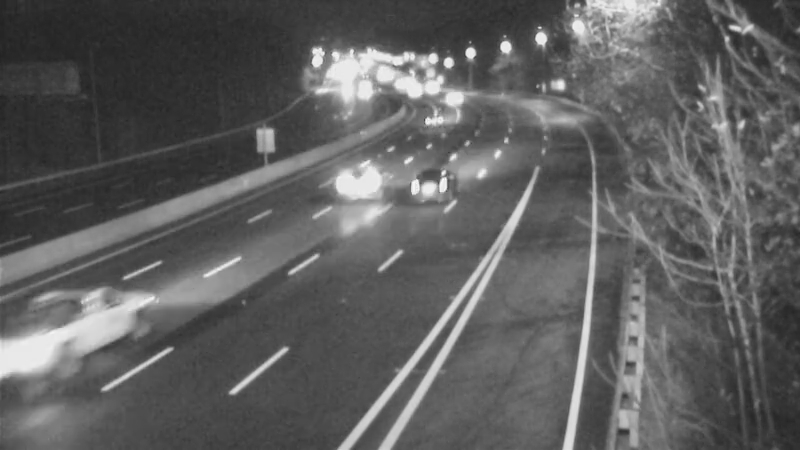vehicle: (18, 277, 128, 387), (314, 142, 394, 222), (384, 149, 464, 229), (406, 62, 456, 112), (383, 68, 433, 118), (433, 70, 483, 120), (410, 93, 460, 143)
